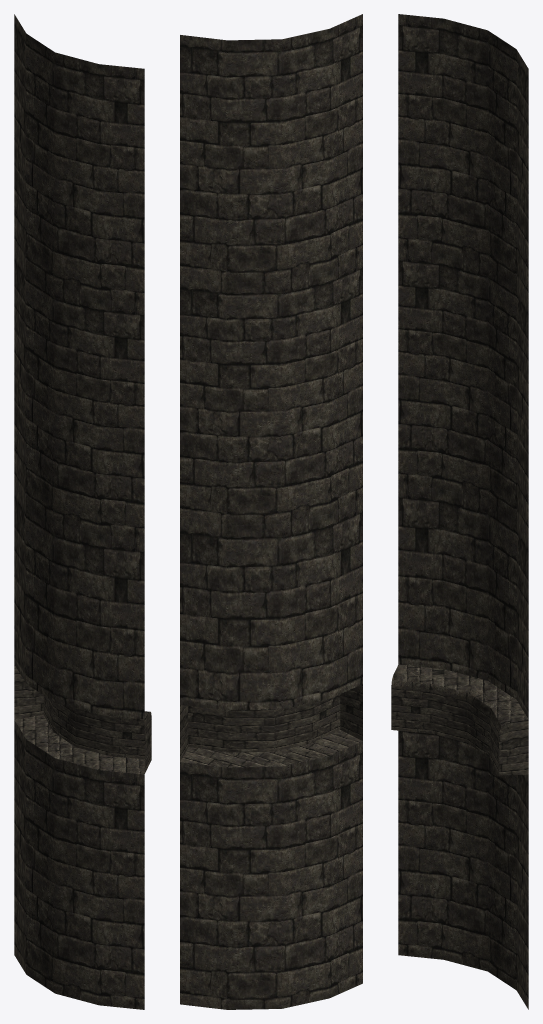
File: wallBlockICR.fbx
3 views of the same model, side by side, from view 1: azimuth 90°, elevation 25°; view 2: azimuth 150°, elevation 25°; view 3: azimuth 270°, elevation 25° (orthographic). The views are drawn at different scales.
Visible parts, largest first — view 1: polySurface76; view 2: polySurface76; view 3: polySurface76.
Part boxes in pixels (left/top/right/bottom): polySurface76: left=14, top=14, right=151, bottom=1009; polySurface76: left=180, top=14, right=362, bottom=1009; polySurface76: left=391, top=14, right=528, bottom=1009.
Size of the model in its own units: 1.06 by 8 by 1.06.
Materials: 1 (1 with a texture image).
